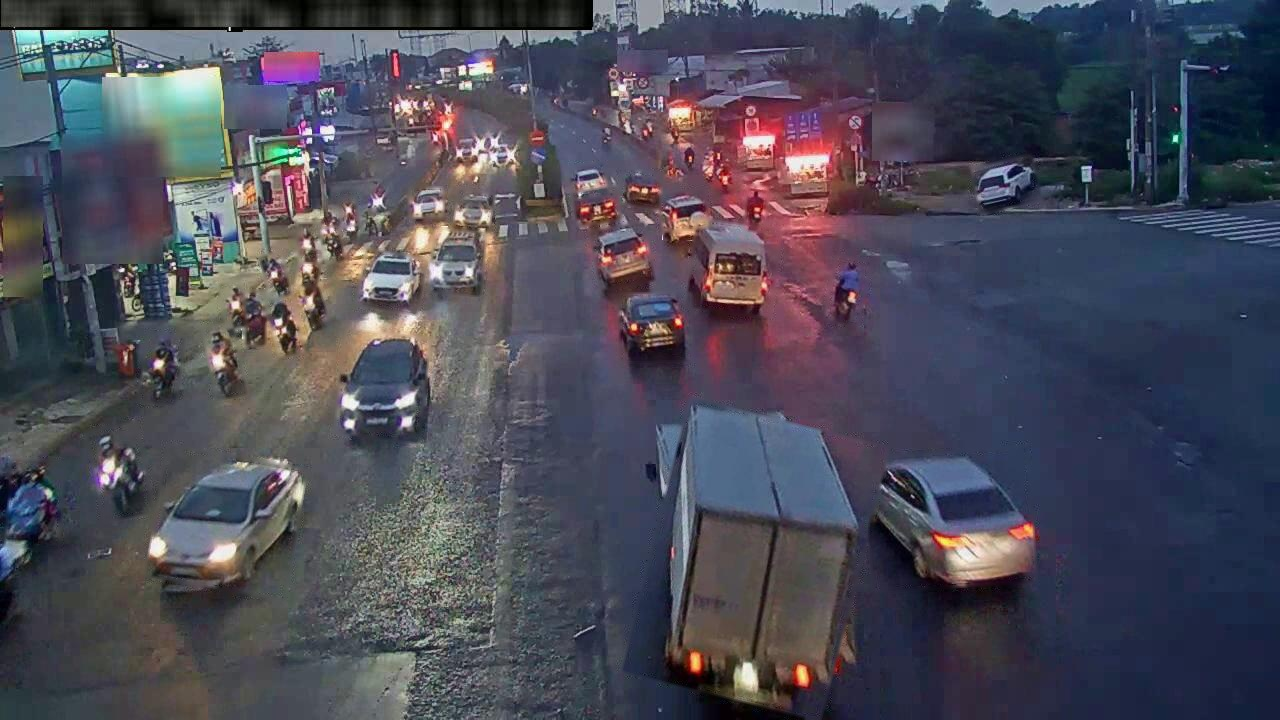Bus: (688, 223, 768, 314)
Car: (870, 457, 1038, 586), (147, 458, 305, 586), (339, 338, 430, 442), (618, 293, 685, 356), (429, 230, 483, 292), (596, 228, 652, 287), (361, 253, 421, 303), (976, 163, 1035, 208), (660, 195, 711, 242), (573, 170, 617, 222), (0, 538, 32, 587), (454, 196, 492, 230), (624, 172, 661, 204), (412, 188, 446, 220)
Motorcycle: (6, 473, 59, 546), (96, 436, 144, 515), (323, 232, 342, 258), (278, 327, 296, 353)
Motorcyclist: (209, 331, 239, 396), (148, 341, 179, 399), (833, 261, 860, 319), (271, 298, 297, 353), (301, 280, 326, 330), (243, 292, 265, 345), (262, 258, 288, 294), (744, 189, 765, 230), (227, 286, 244, 329), (300, 250, 320, 286), (299, 225, 316, 260), (342, 200, 357, 224)
Sign: (529, 129, 546, 146)
Traffic light: (1168, 102, 1184, 145), (390, 51, 400, 78)
Truck: (646, 405, 857, 716)
